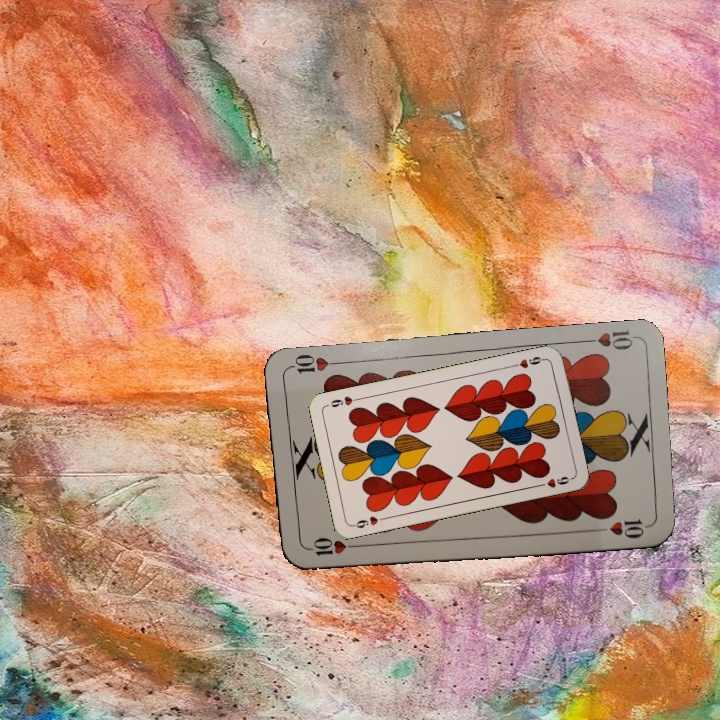H10: (578, 327, 637, 353), (303, 536, 362, 558)
H9: (507, 352, 548, 371), (349, 512, 389, 531)
